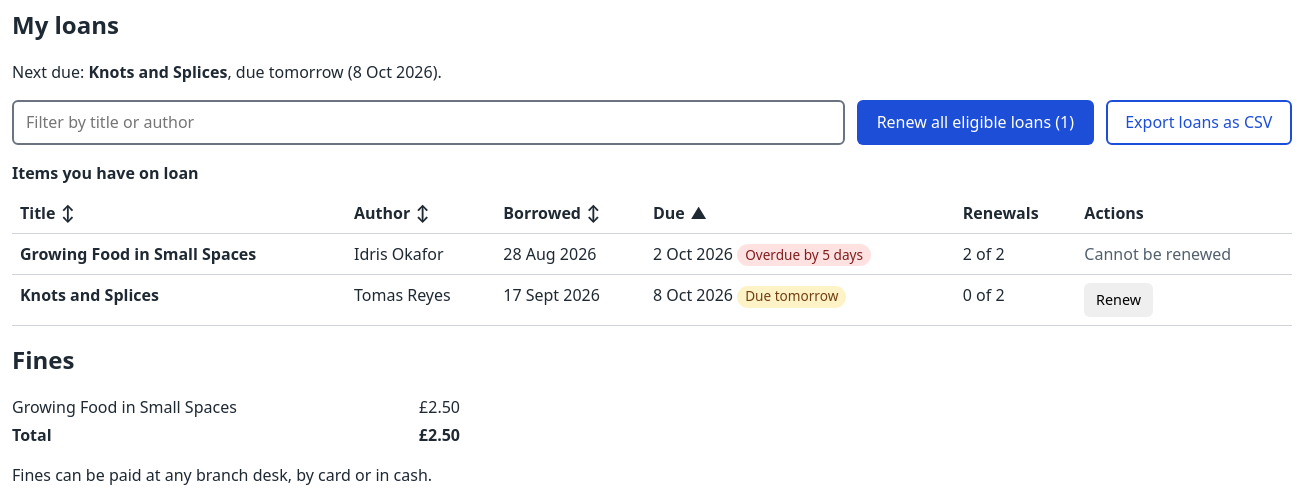
Test: LoansPage › filters by title or author
The image size is (1304, 502).
Type "reyes" into the search field with placeholder "Filter by title or author" at x=428, y=122, box [12,100,845,145]
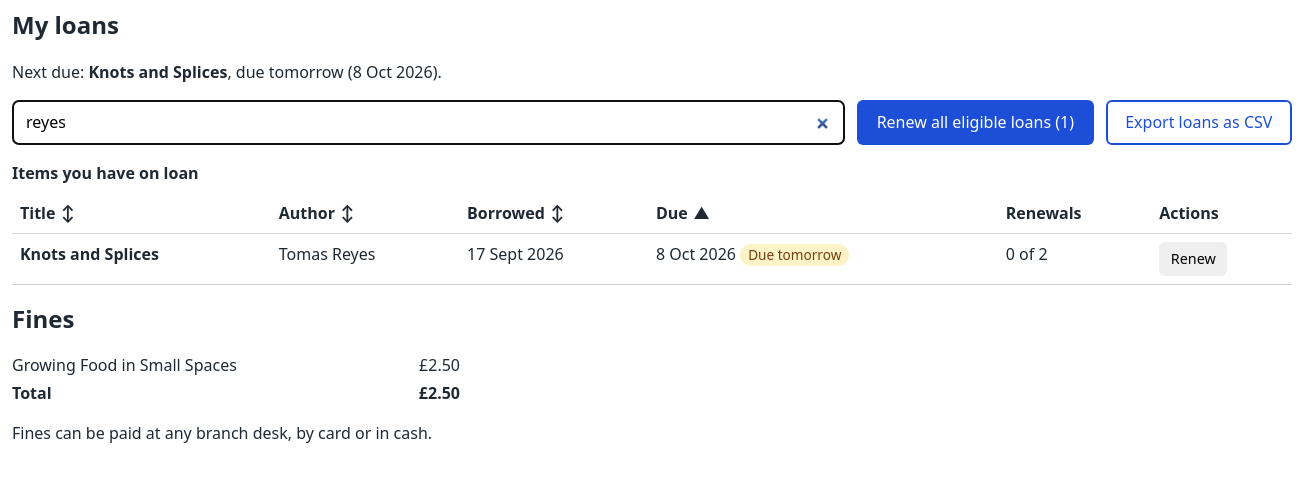
Type "zzz" into the search field with placeholder "Filter by title or author" at x=428, y=122, box [12,100,845,145]
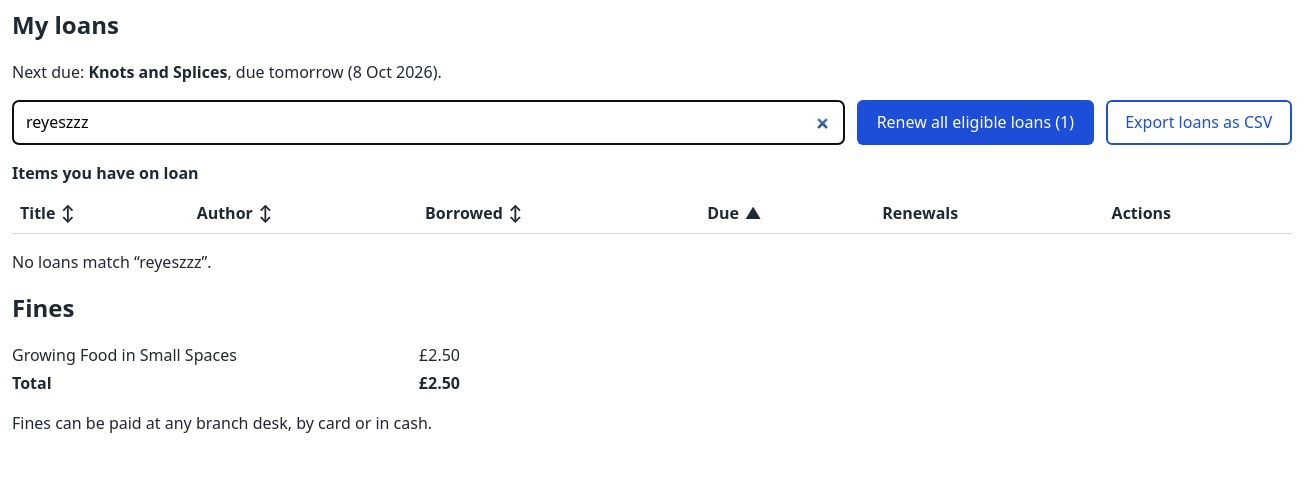
Check: the text "No loans match “reyeszzz”." is shown, box [12,251,212,273]
